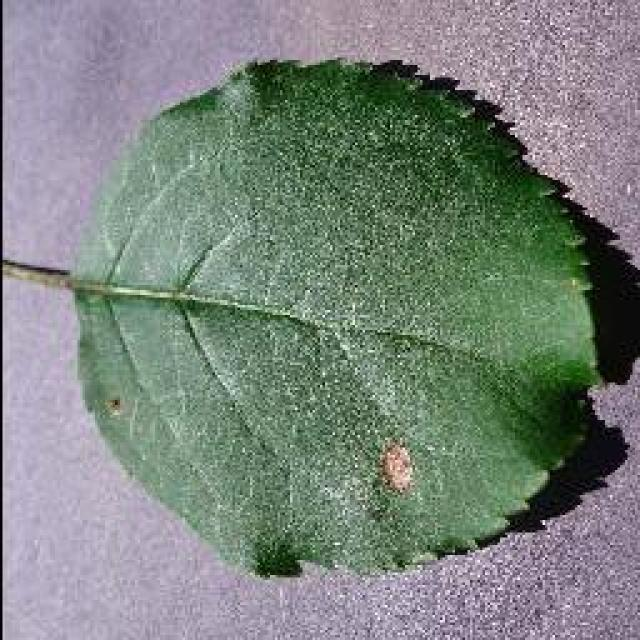apple healthy: (65, 52, 613, 580)
